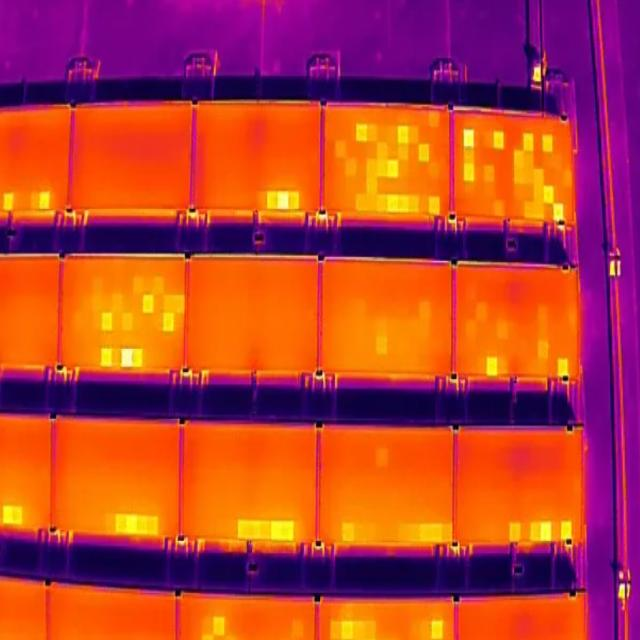hotspot group: (339, 115, 446, 220), (494, 121, 569, 222), (342, 504, 455, 553), (96, 286, 151, 373), (128, 268, 183, 337), (501, 506, 580, 554), (230, 504, 302, 547), (2, 175, 58, 222), (108, 498, 164, 539), (460, 122, 491, 194), (324, 607, 382, 640), (261, 180, 305, 217), (197, 608, 237, 640), (479, 339, 505, 388), (550, 351, 578, 385), (0, 496, 27, 528), (422, 608, 445, 640)
panel with hotspots: (187, 86, 325, 235), (316, 420, 455, 566), (182, 415, 320, 562), (49, 408, 183, 559), (451, 97, 585, 242), (58, 241, 190, 388), (323, 91, 452, 241), (454, 422, 591, 561), (453, 259, 586, 391)
